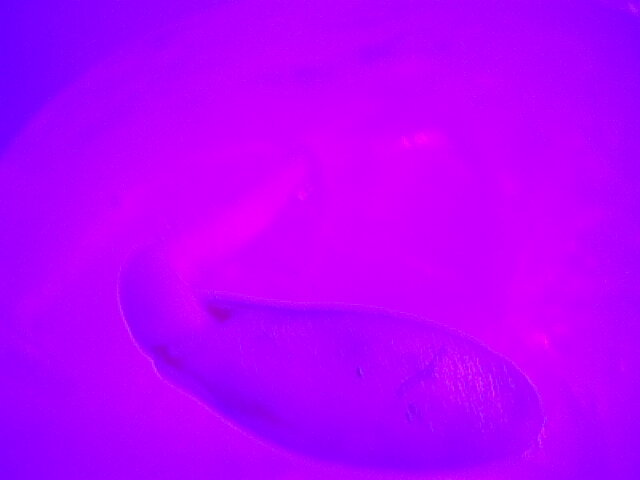sprout: (101, 141, 553, 454)
